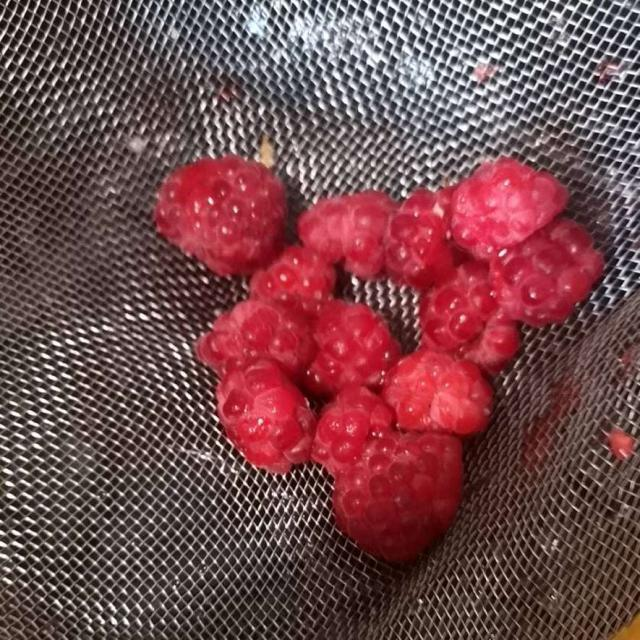raspberries: (159, 156, 594, 556)
